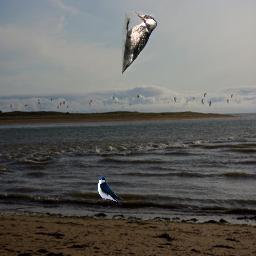Swallow: (97, 176, 124, 205)
Woodpecker: (122, 11, 157, 77)
